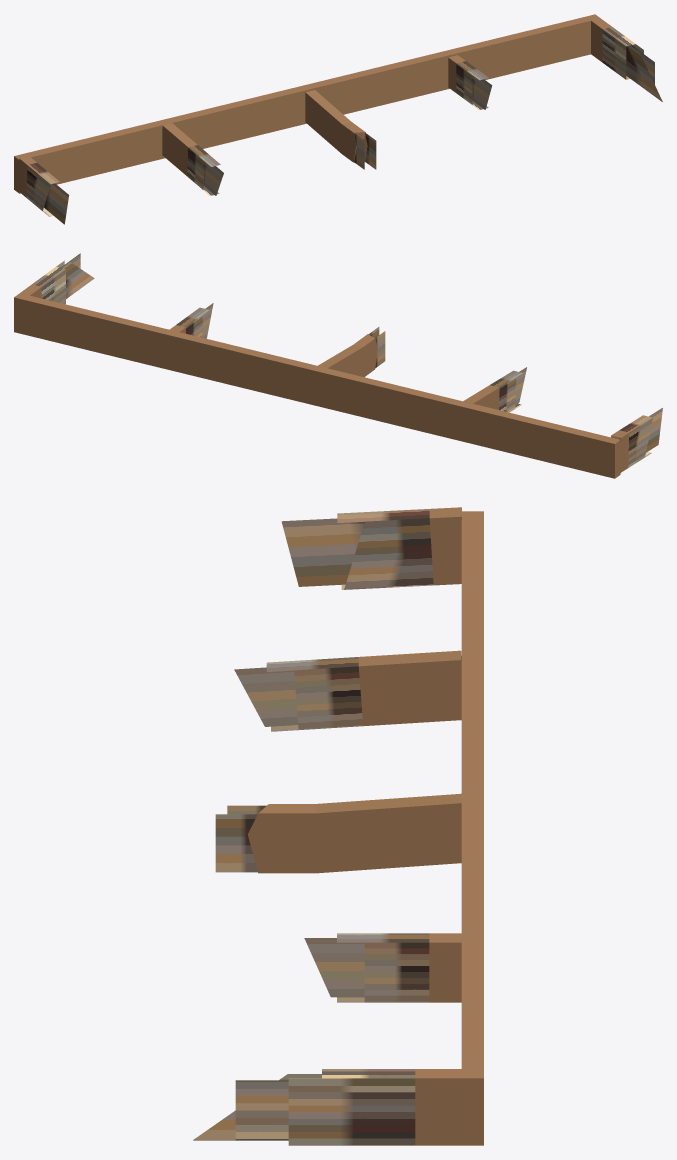
The model's file is DBK_WoodFrame_Floor_Tile_Short.fbx.
3 views of the same model, one above another, from view 1: azimuth 30°, elevation 25°; view 2: azimuth 150°, elevation 25°; view 3: azimuth 270°, elevation 25° (orthographic). The views are drawn at different scales.
Parts seen in each view (by area): view 1: DBK_WoodFrame_Floor_Tile_Short; view 2: DBK_WoodFrame_Floor_Tile_Short; view 3: DBK_WoodFrame_Floor_Tile_Short.
Part boxes in pixels (bbox=[...]): DBK_WoodFrame_Floor_Tile_Short: bbox=[14, 14, 662, 224]; DBK_WoodFrame_Floor_Tile_Short: bbox=[14, 253, 662, 478]; DBK_WoodFrame_Floor_Tile_Short: bbox=[193, 507, 483, 1145].
Size of the model in its own units: 300 by 19.14 by 65.06.
